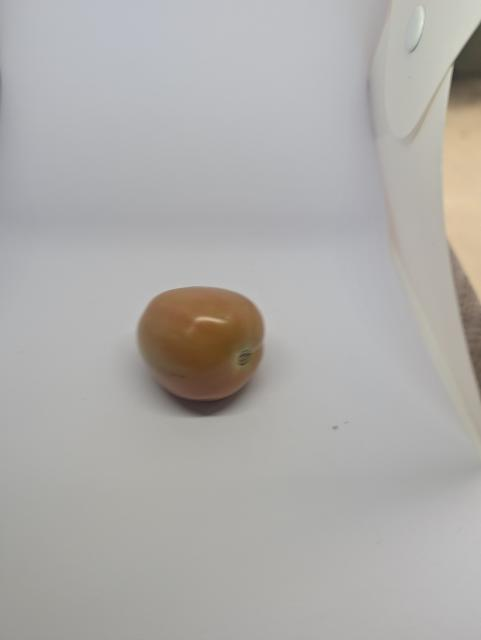turning: (130, 280, 270, 405)
